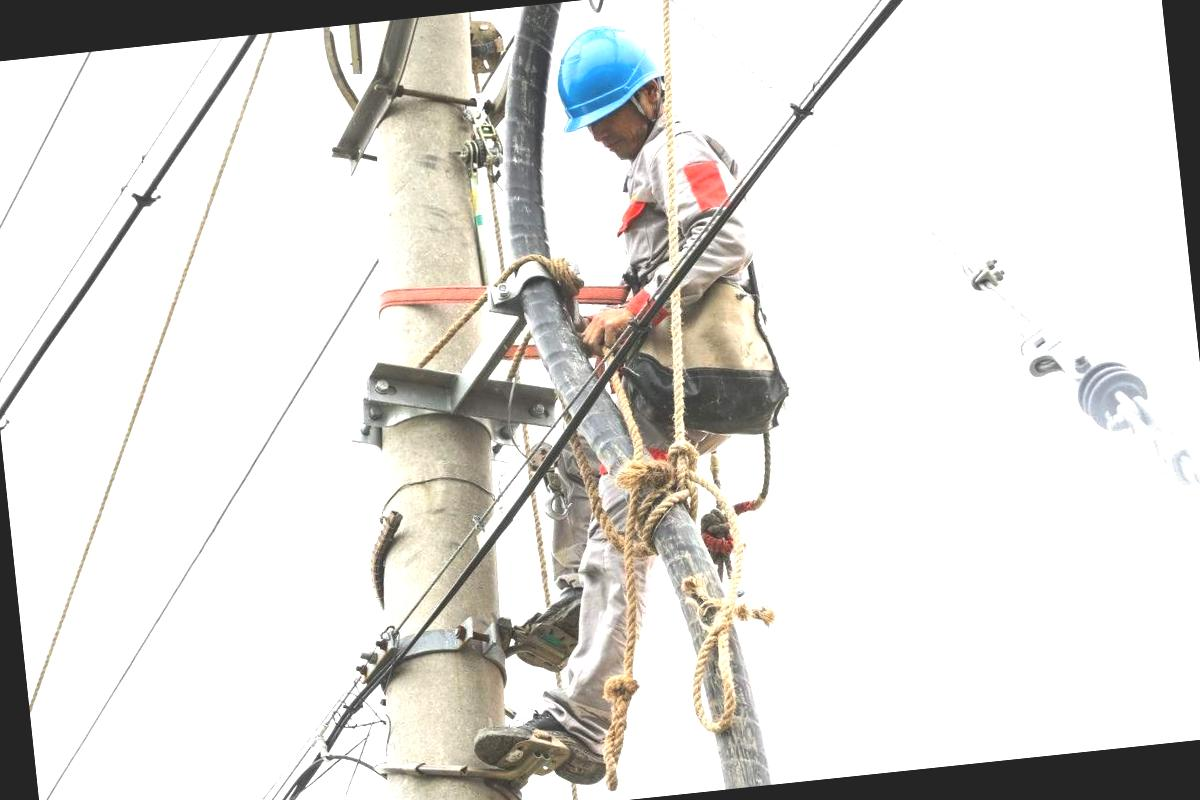helmet: (536, 16, 679, 154)
person: (513, 4, 823, 699)
